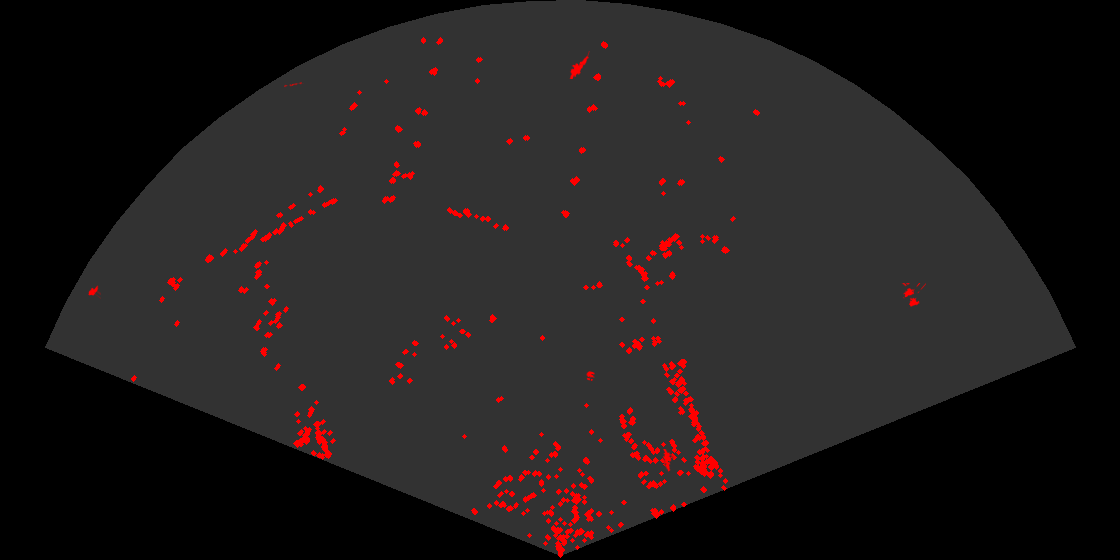AUV: (87, 284, 101, 299)
ball: (585, 370, 596, 383)
cage: (900, 283, 926, 308)
chain: (284, 81, 304, 88)
frogman: (568, 51, 590, 79), (661, 449, 674, 473)
